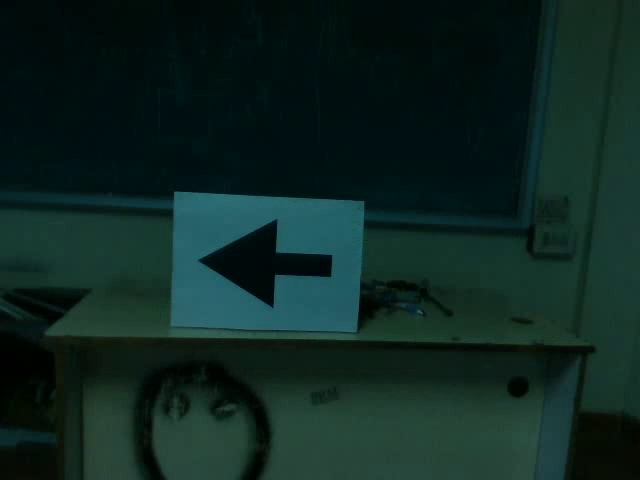Left: (195, 215, 341, 315)
